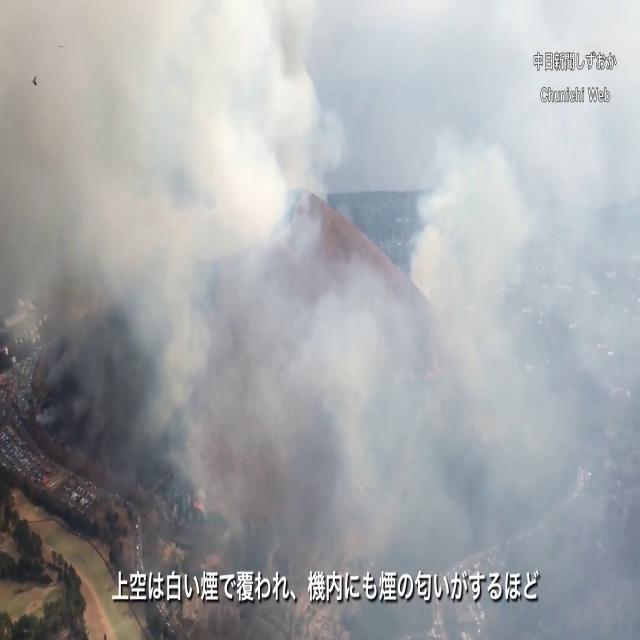Smoke: (0, 22, 620, 556)
